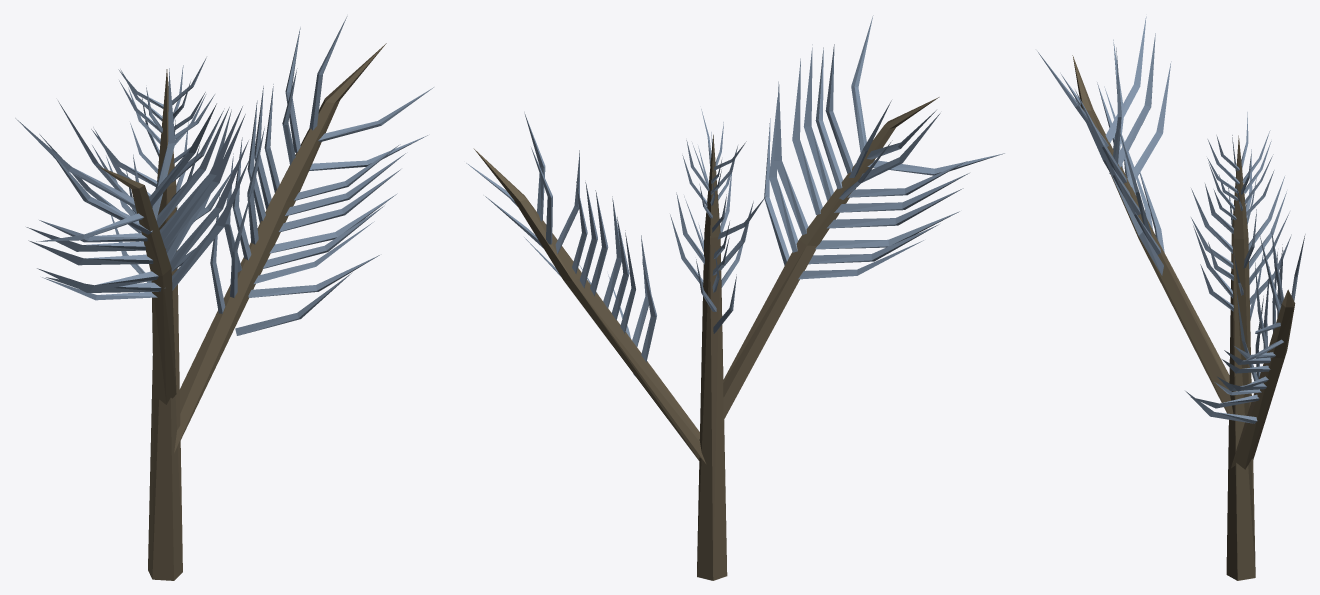
The model's file is Blue_Spruce_2_5.fbx.
3 views of the same model, side by side, from view 1: azimuth 30°, elevation 25°; view 2: azimuth 150°, elevation 25°; view 3: azimuth 270°, elevation 25° (orthographic). The views are drawn at different scales.
Parts seen in each view (by area): view 1: Spurce_2_5; view 2: Spurce_2_5; view 3: Spurce_2_5.
Boxes of the visible parts, x1,y1,x2,y2 form: Spurce_2_5: (15,16,433,580); Spurce_2_5: (466,15,1004,580); Spurce_2_5: (1037,16,1305,580).
Size of the model in its own units: 162 by 175 by 85.68.
